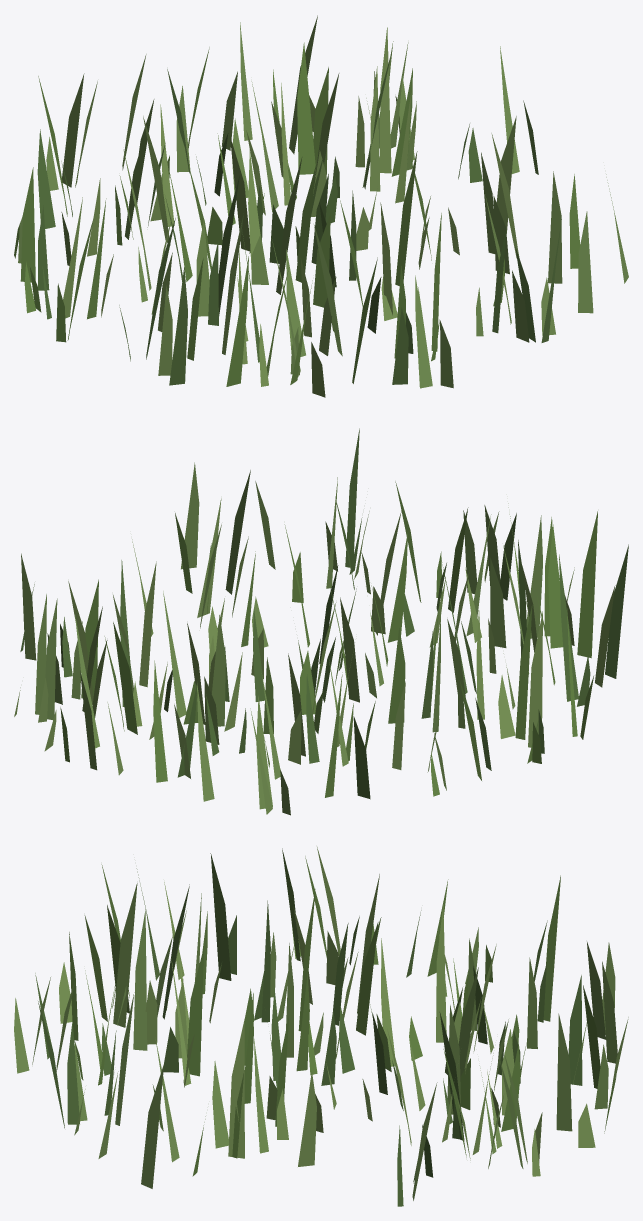
File: grass-natural.glb
The picture shows the model from 3 angles, top to bottom: view 1: azimuth 30°, elevation 25°; view 2: azimuth 150°, elevation 25°; view 3: azimuth 270°, elevation 25°; orthographic projection. The views are drawn at different scales.
Parts seen in each view (by area): view 1: grass-natural; view 2: grass-natural; view 3: grass-natural.
Boxes of the visible parts, x1,y1,x2,y2 form: grass-natural: (14,15,628,397); grass-natural: (14,428,628,815); grass-natural: (14,847,628,1206).
Size of the model in its own units: 1.61 by 0.4091 by 1.66.
